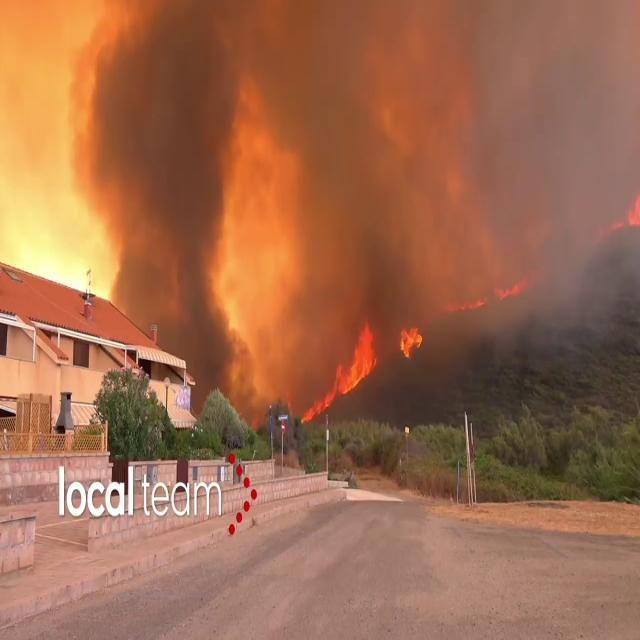Fire: (338, 322, 378, 398), (392, 312, 427, 363), (303, 384, 340, 424)
Smoke: (90, 1, 638, 364)
